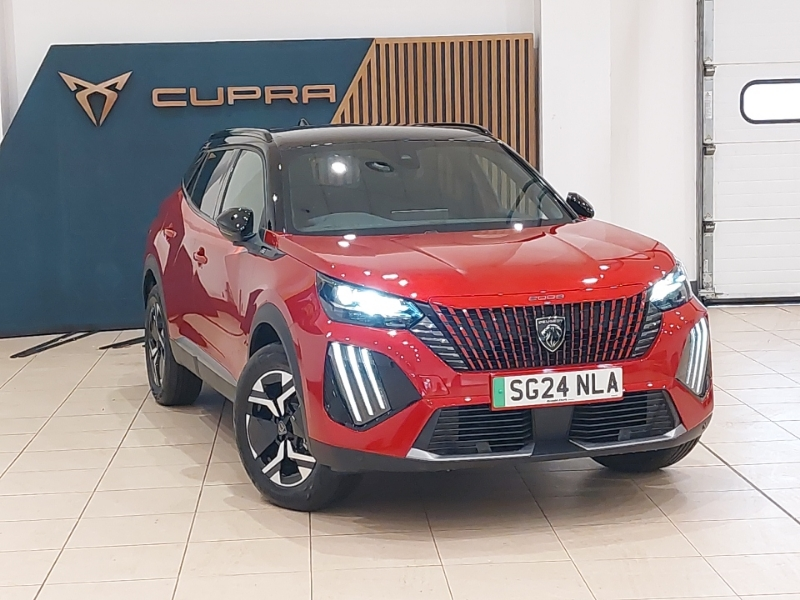car: (135, 119, 725, 515)
